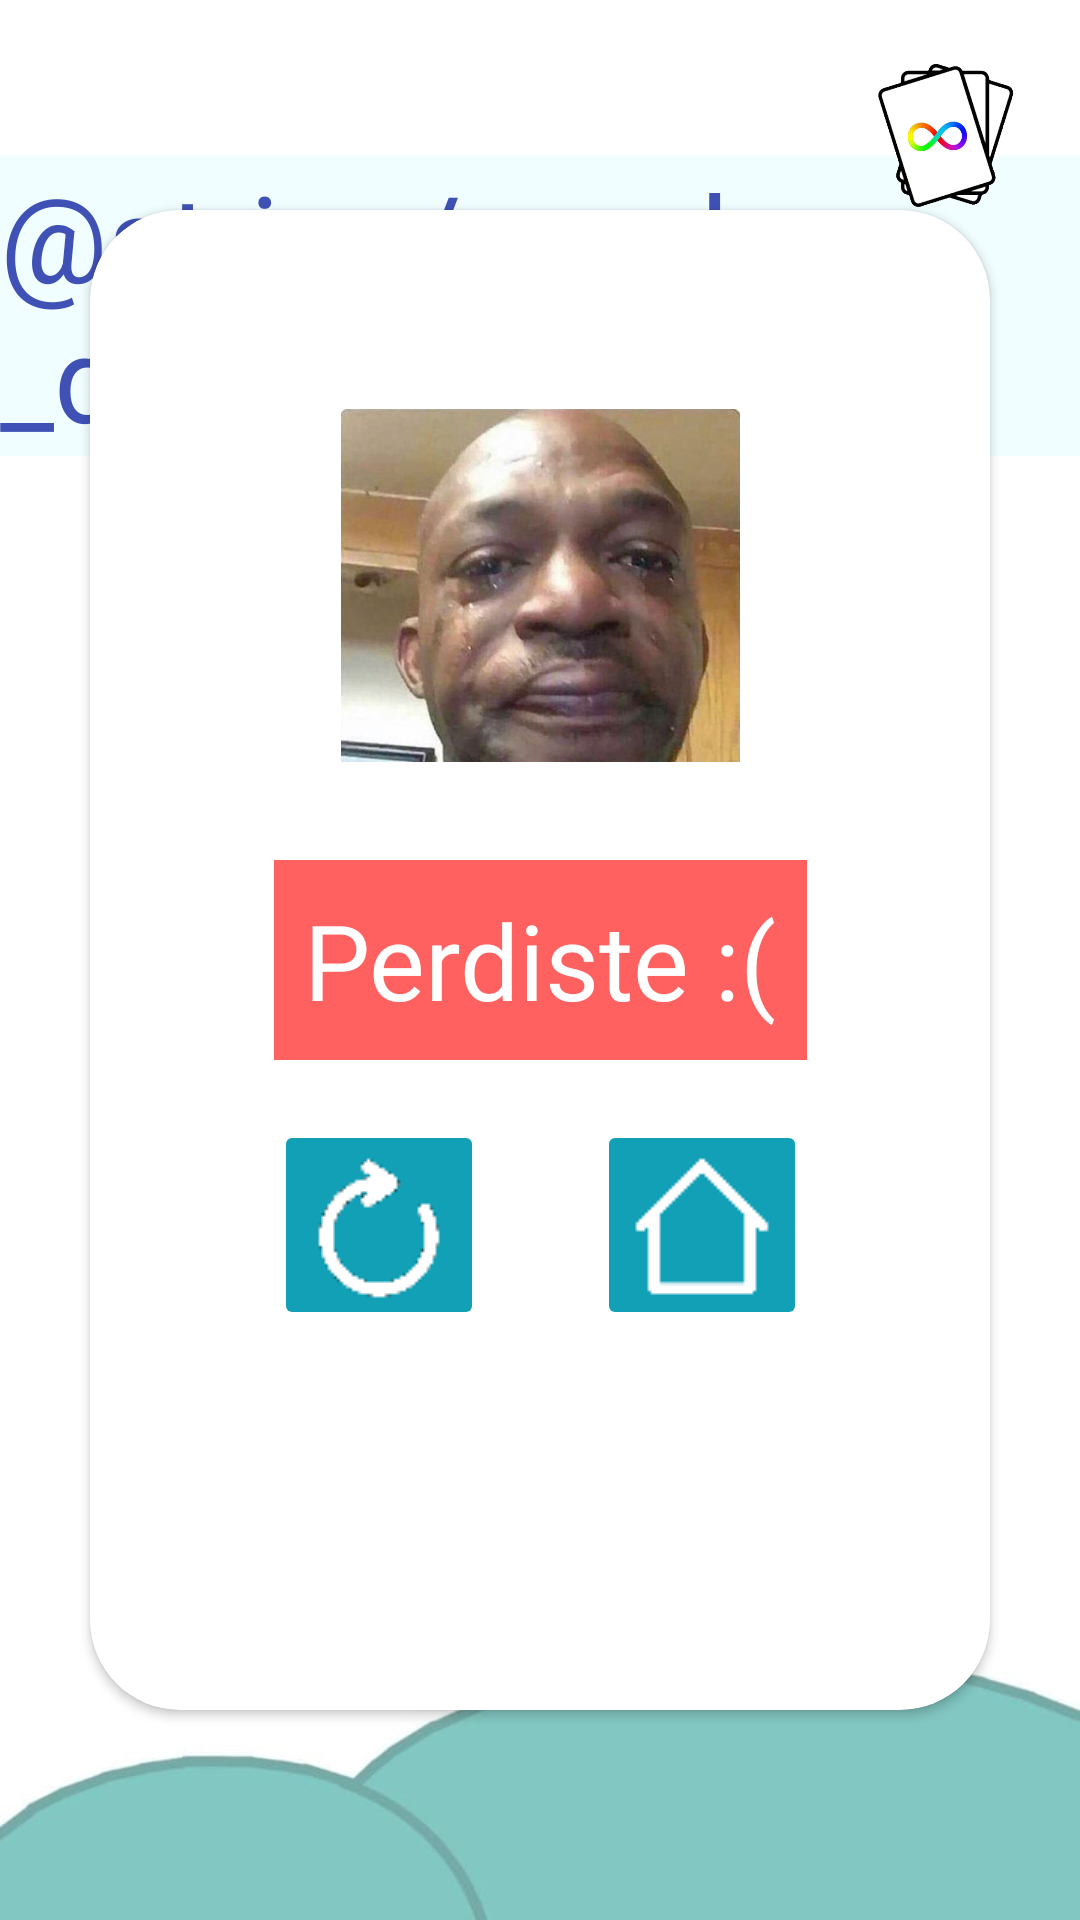

Locate icon controls on the screen. Image size 1080px x 1920px, boxes as (x1, y1, x2, y2).
home: (609, 1138, 795, 1312)
reiniciar: (286, 1138, 472, 1312)
